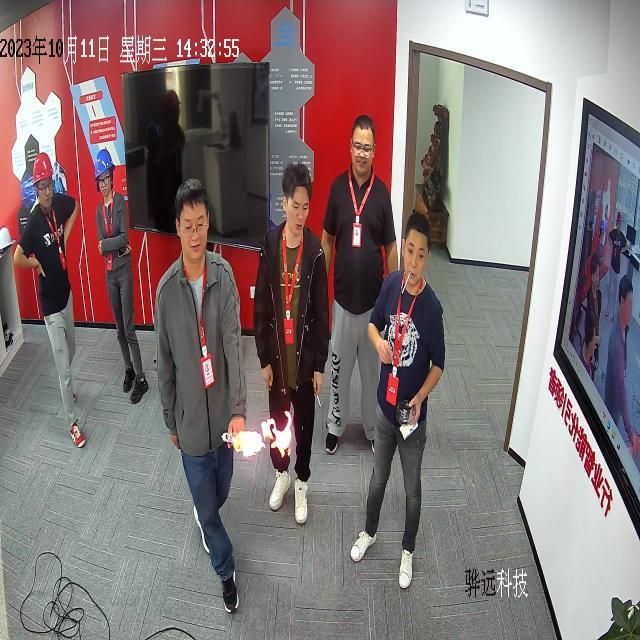Fire: (231, 411, 293, 458)
